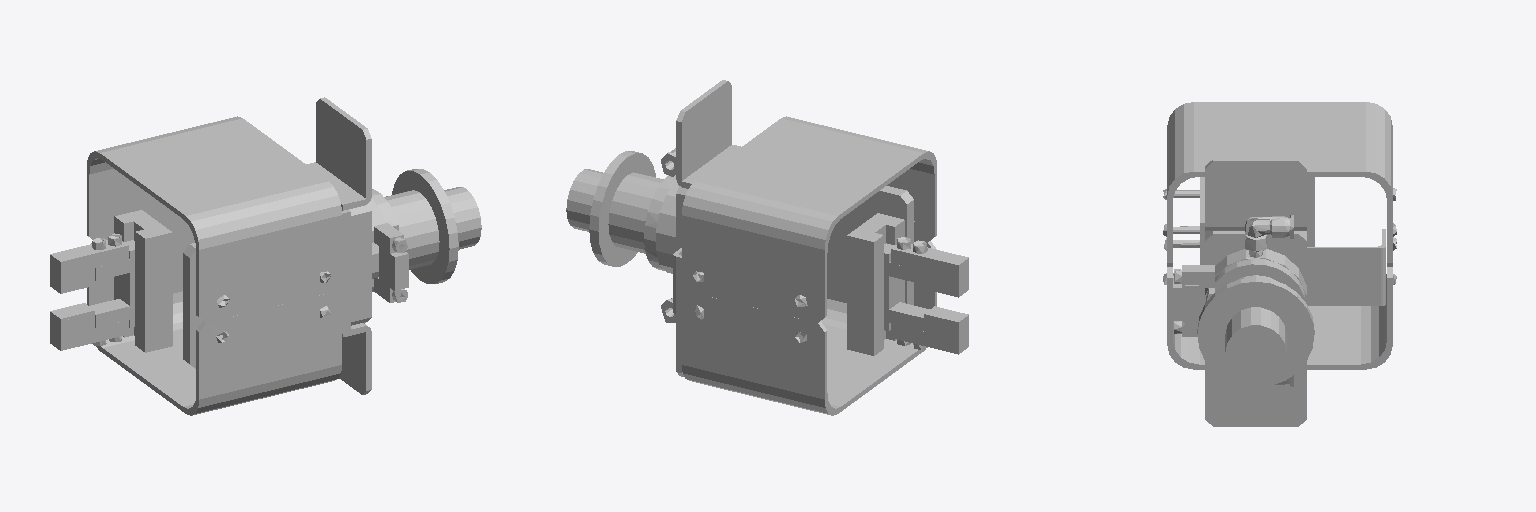
The picture shows the model from 3 angles: view 1: azimuth 30°, elevation 25°; view 2: azimuth 150°, elevation 25°; view 3: azimuth 270°, elevation 25°; orthographic projection.
Parts seen in each view (by area): view 1: Shape_IndexedFaceSet.001_Shape_IndexedFaceSet.076, Shape_IndexedFaceSet_Shape_IndexedFaceSet.075; view 2: Shape_IndexedFaceSet.001_Shape_IndexedFaceSet.076, Shape_IndexedFaceSet_Shape_IndexedFaceSet.075; view 3: Shape_IndexedFaceSet.001_Shape_IndexedFaceSet.076, Shape_IndexedFaceSet_Shape_IndexedFaceSet.075.
Part boxes in pixels (x1,y1,x2,y2): Shape_IndexedFaceSet.001_Shape_IndexedFaceSet.076: (50, 97, 408, 415); Shape_IndexedFaceSet_Shape_IndexedFaceSet.075: (384, 169, 481, 283); Shape_IndexedFaceSet.001_Shape_IndexedFaceSet.076: (644, 80, 968, 415); Shape_IndexedFaceSet_Shape_IndexedFaceSet.075: (566, 151, 663, 266); Shape_IndexedFaceSet.001_Shape_IndexedFaceSet.076: (1163, 102, 1396, 426); Shape_IndexedFaceSet_Shape_IndexedFaceSet.075: (1197, 275, 1314, 387).
Bounding box in the file's own units: 0.172 × 0.11 × 0.0879.